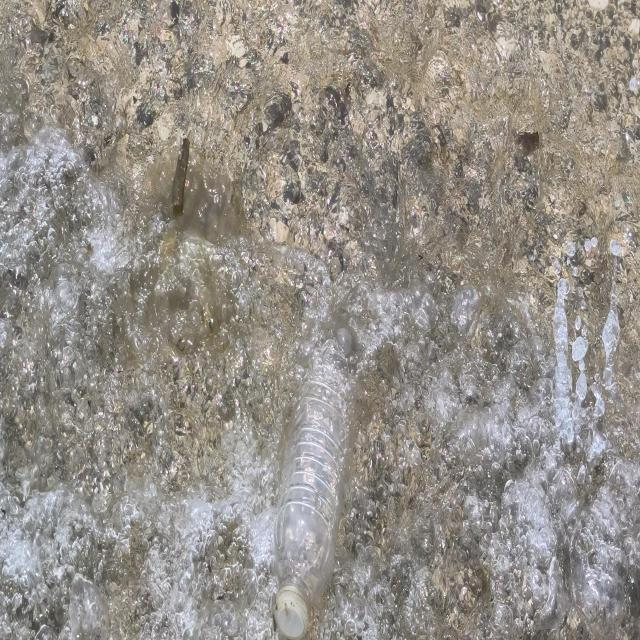plastic_waste: (273, 375, 359, 640)
